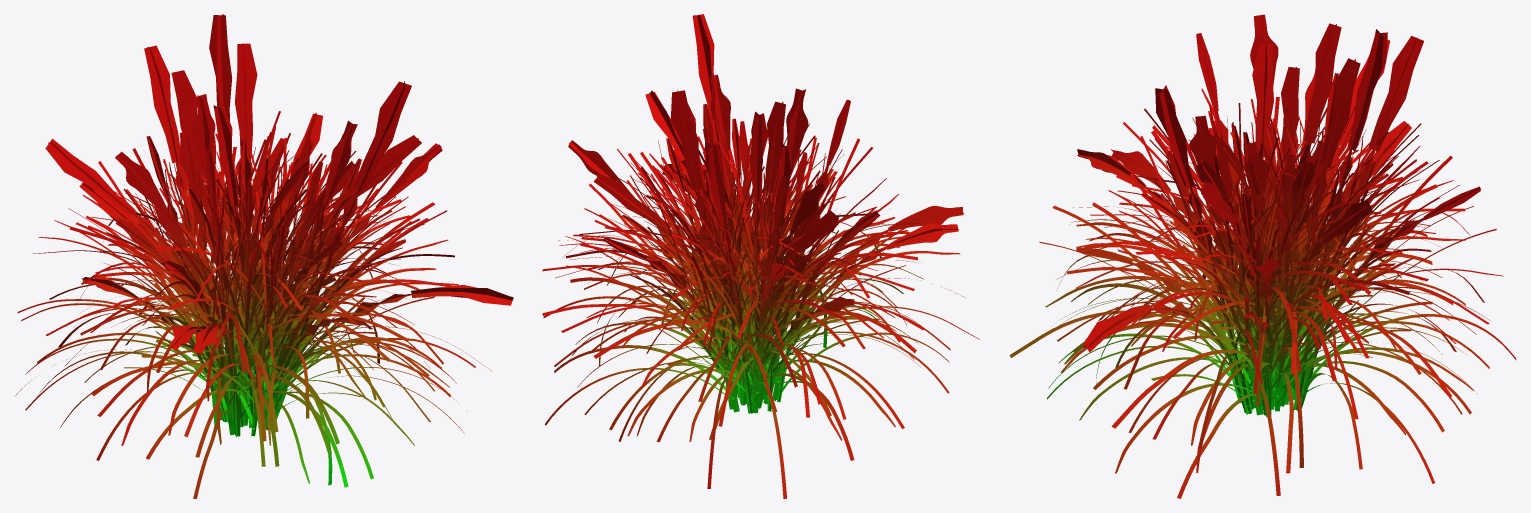
Rendered from slfpffjr_Var2_LOD0.fbx.
3 views of the same model, side by side, from view 1: azimuth 30°, elevation 25°; view 2: azimuth 150°, elevation 25°; view 3: azimuth 270°, elevation 25° (orthographic). The views are drawn at different scales.
Parts seen in each view (by area): view 1: _228d_Var2_LOD0; view 2: _228d_Var2_LOD0; view 3: _228d_Var2_LOD0.
Boxes of the visible parts, x1,y1,x2,y2 form: _228d_Var2_LOD0: [15, 14, 513, 498]; _228d_Var2_LOD0: [542, 14, 979, 498]; _228d_Var2_LOD0: [1009, 14, 1516, 498].
Size of the model in its own units: 81.63 by 75.22 by 86.8.
